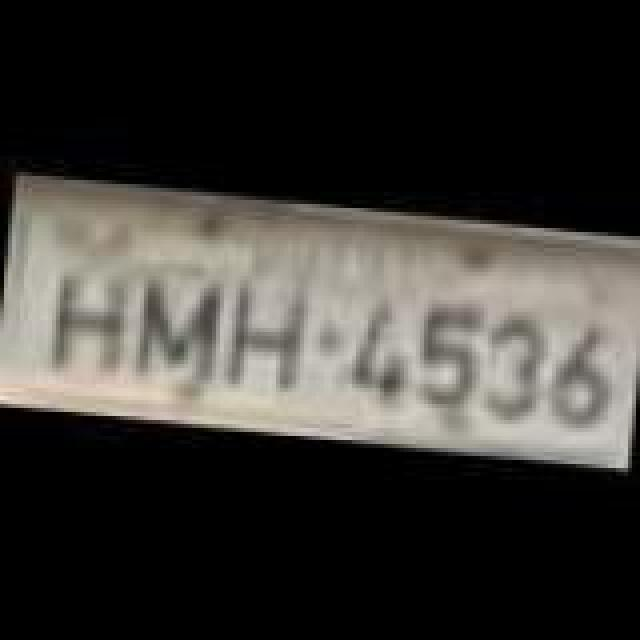3: (474, 306, 550, 422)
4: (344, 296, 416, 412)
5: (408, 300, 488, 416)
6: (536, 316, 616, 428)
H: (38, 260, 138, 380), (218, 276, 310, 396)
M: (126, 274, 226, 394)
